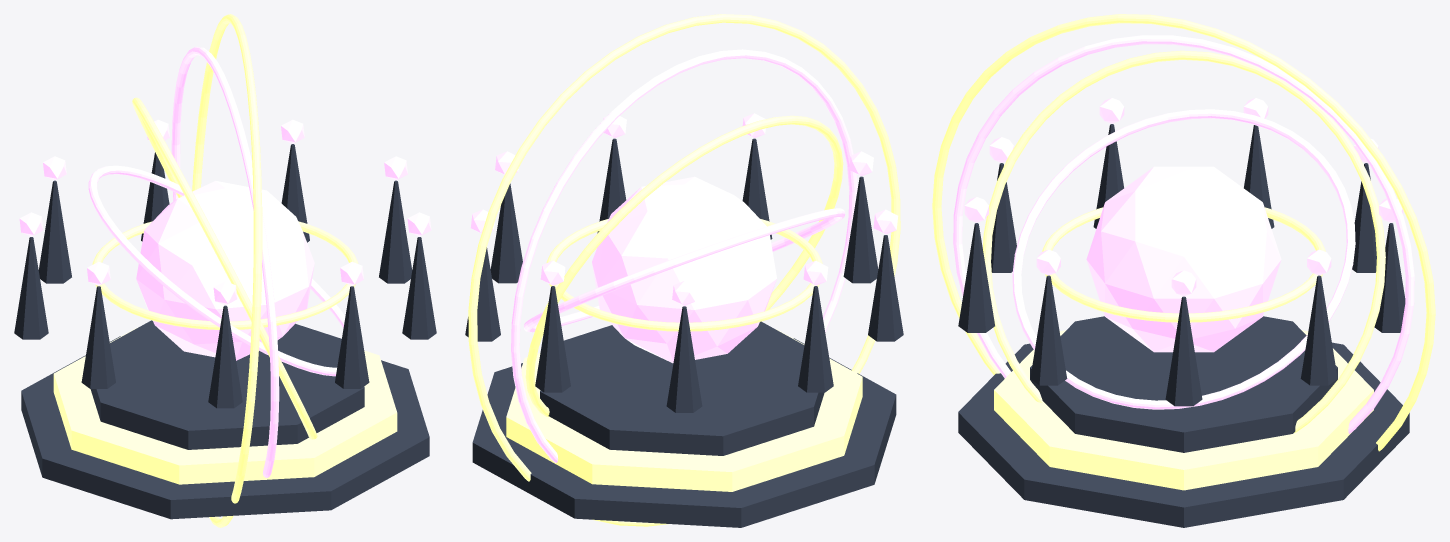
Rendered from gpu-blender-v24.glb.
3 renders of one model, left to right at view 1: azimuth 30°, elevation 25°; view 2: azimuth 150°, elevation 25°; view 3: azimuth 270°, elevation 25°, orthographic. The views are drawn at different scales.
Parts seen in each view (by area): view 1: Cylinder.002, Cylinder, SovereignCore_osint-scout-skill, Cylinder.001, Torus.004, Torus.003, Torus.001, Torus.002, Torus, Cone.006, Cone.004, Cone.008 (+6 smaller); view 2: Cylinder.002, SovereignCore_osint-scout-skill, Cylinder, Cylinder.001, Torus.004, Torus.003, Torus.002, Torus.001, Torus, Cone.005, Cone.002, Cone.004 (+6 smaller); view 3: SovereignCore_osint-scout-skill, Cylinder.002, Cylinder, Cylinder.001, Torus.004, Torus.003, Torus.002, Torus.001, Torus, Cone, Cone.001, Cone.008 (+6 smaller).
Part boxes in pixels (box(x1,y1,x2,y2)): Cylinder.002: box(90, 320, 364, 449); Cylinder: box(21, 336, 429, 519); SovereignCore_osint-scout-skill: box(136, 181, 314, 360); Cylinder.001: box(53, 327, 397, 484); Torus.004: box(192, 14, 262, 527); Torus.003: box(171, 46, 279, 479); Torus.001: box(88, 165, 345, 376); Torus.002: box(132, 97, 317, 439); Torus: box(92, 221, 358, 329); Cone.006: box(208, 305, 242, 408); Cone.004: box(14, 237, 48, 339); Cone.008: box(402, 237, 436, 339); Cylinder.002: box(540, 321, 824, 455); SovereignCore_osint-scout-skill: box(592, 176, 776, 363); Cylinder: box(472, 338, 896, 527); Cylinder.001: box(506, 329, 862, 491); Torus.004: box(468, 14, 900, 526); Torus.003: box(511, 49, 857, 462); Torus.002: box(525, 115, 843, 416); Torus.001: box(523, 208, 844, 332); Torus: box(546, 219, 822, 331); Cone.005: box(868, 235, 903, 341); Cone.002: box(535, 286, 570, 392); Cone.004: box(798, 286, 833, 392); SovereignCore_osint-scout-skill: box(1086, 166, 1281, 352); Cylinder.002: box(1030, 316, 1337, 452); Cylinder: box(958, 342, 1409, 527); Cylinder.001: box(994, 330, 1373, 490); Torus.004: box(932, 14, 1435, 451); Torus.003: box(953, 35, 1414, 433); Torus.002: box(983, 50, 1385, 432); Torus.001: box(1012, 109, 1355, 409); Torus: box(1042, 207, 1325, 322); Cone: box(1165, 296, 1202, 406); Cone.001: box(1300, 275, 1337, 385); Cone.008: box(1030, 275, 1067, 385).
Size of the model in its own units: 4.41 by 5.33 by 4.9.
